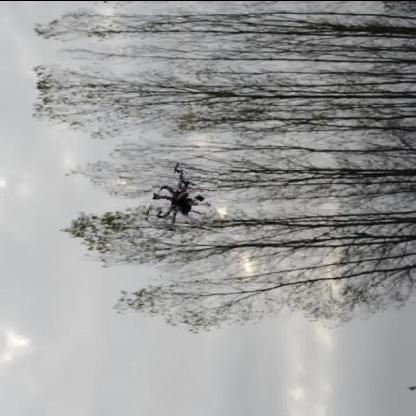drone: (150, 160, 218, 231)
